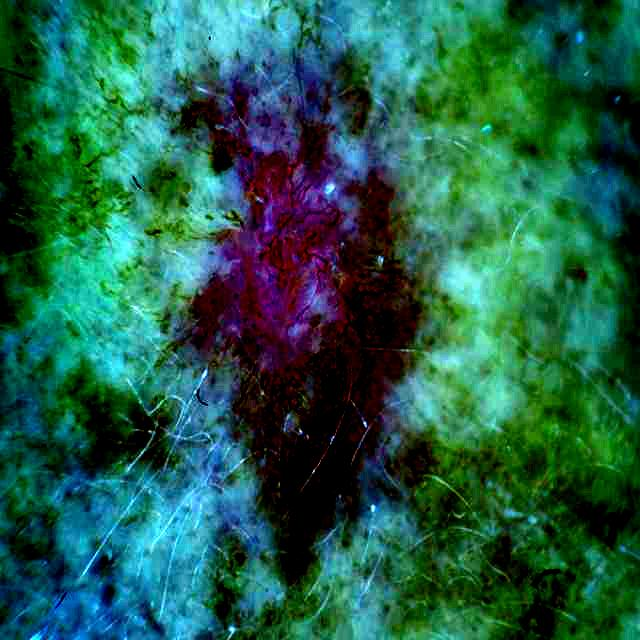BCC: (162, 14, 402, 585), (190, 13, 414, 594)
